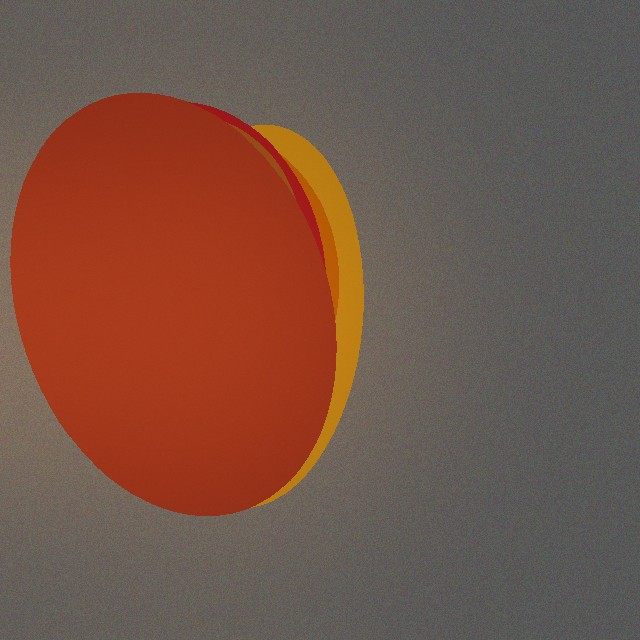fire: (135, 174, 251, 468)
